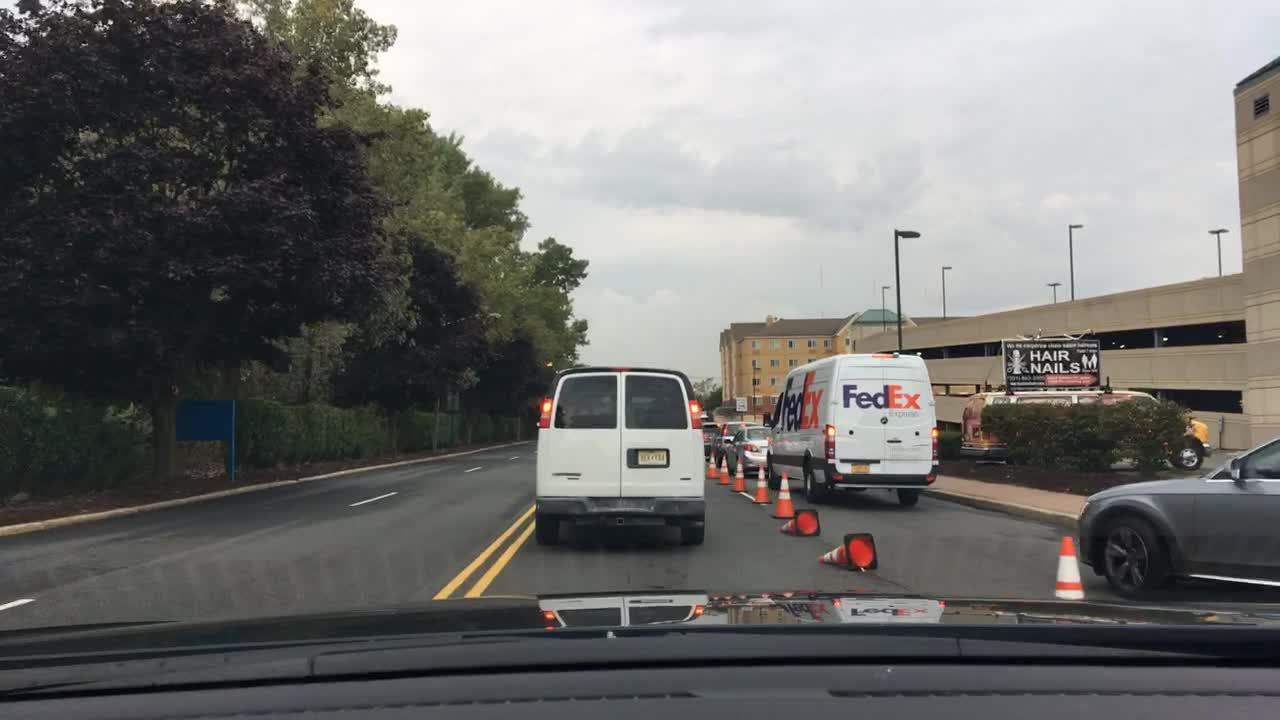bus: (959, 385, 1209, 470)
car: (1076, 431, 1279, 599), (530, 366, 708, 547), (765, 351, 943, 507), (716, 428, 775, 476), (720, 421, 752, 443), (704, 422, 719, 456)
traffic sign: (734, 396, 749, 410)
